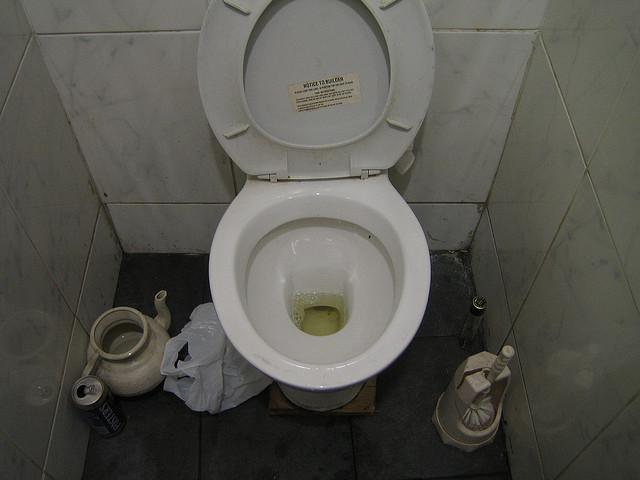Sanitario: (185, 0, 435, 416)
